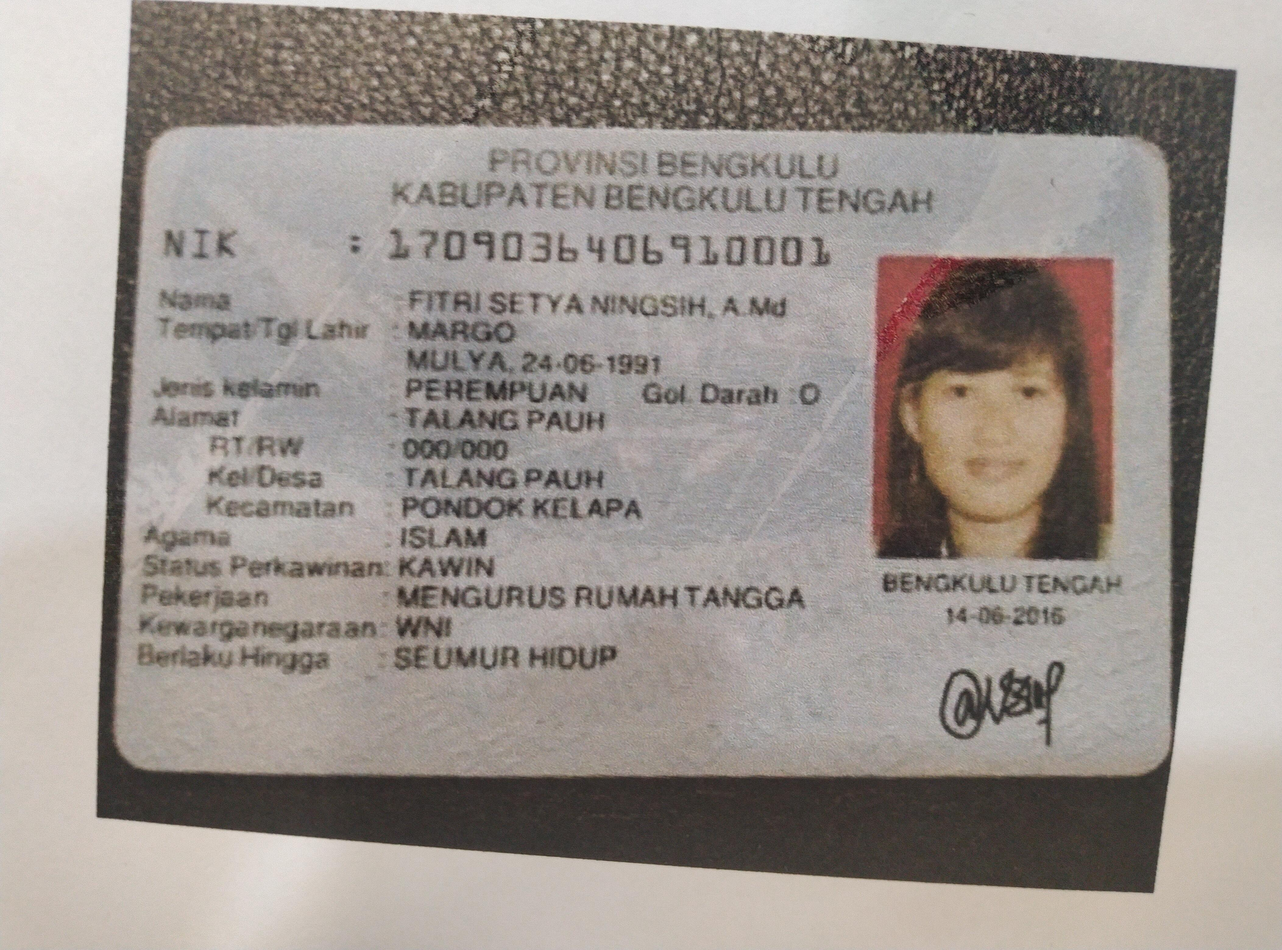ID-card: (120, 126, 1176, 754)
